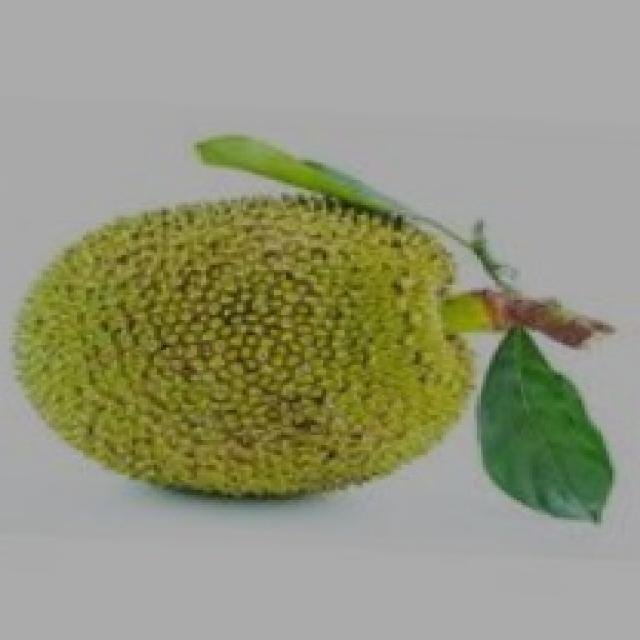Fruit: (111, 160, 514, 528)
